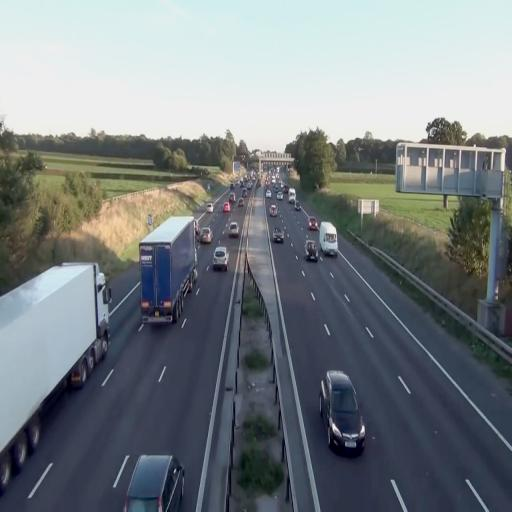vehicle: (139, 213, 197, 327), (319, 370, 366, 456), (123, 453, 184, 512), (318, 221, 338, 258), (318, 221, 338, 257), (213, 245, 229, 271), (305, 237, 318, 261), (225, 220, 240, 238), (200, 226, 212, 245), (272, 226, 284, 244)
